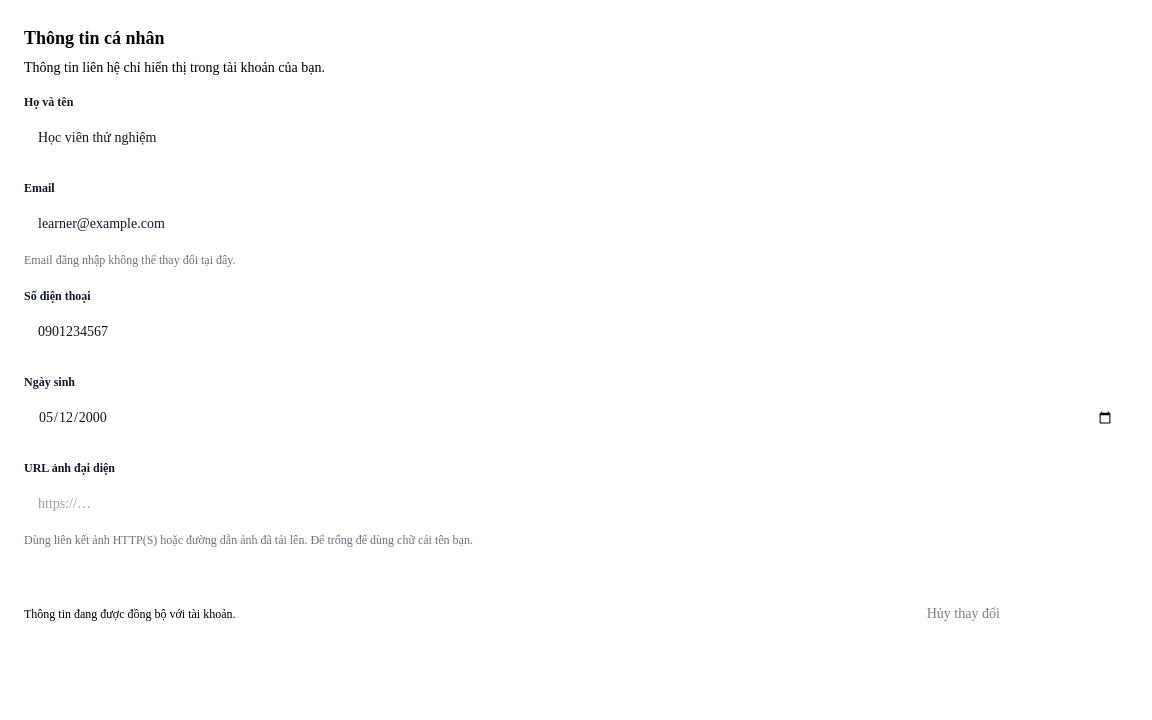
Test case: cancels unsaved edits
Replace the text in the field labelled "Họ và tên" with "Tên mới" at (576, 138), box [24, 116, 1128, 160]
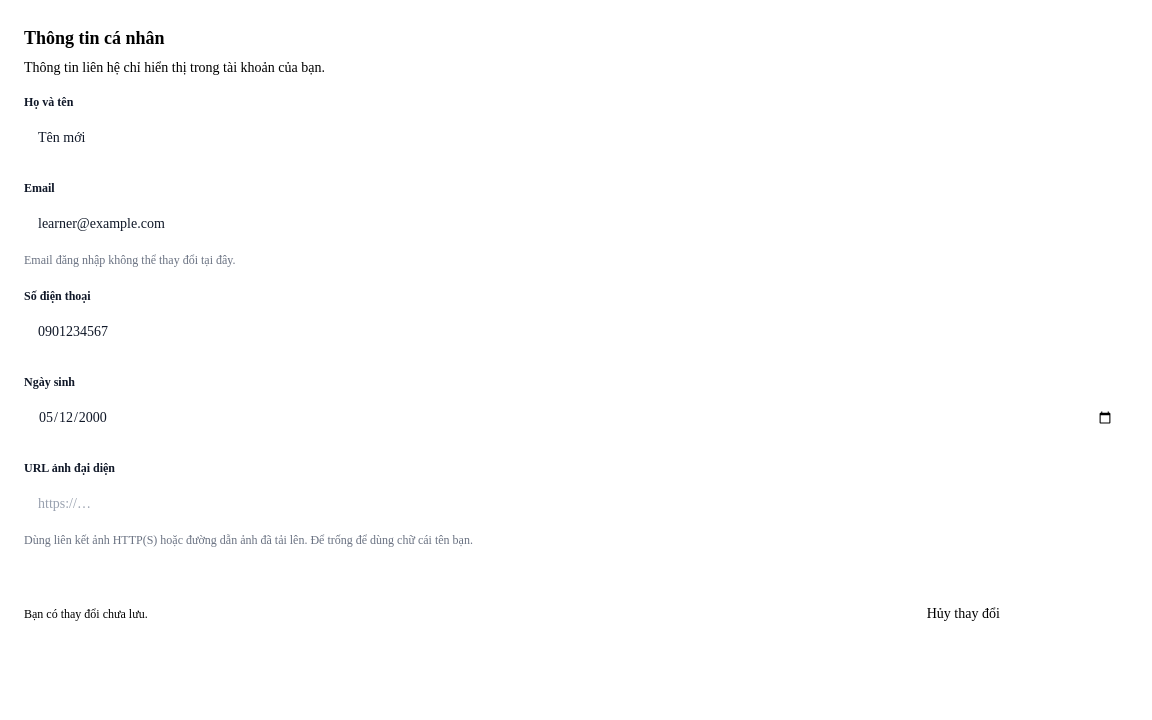
Click the button "Hủy thay đổi".
click(963, 614)  # box [911, 592, 1016, 636]
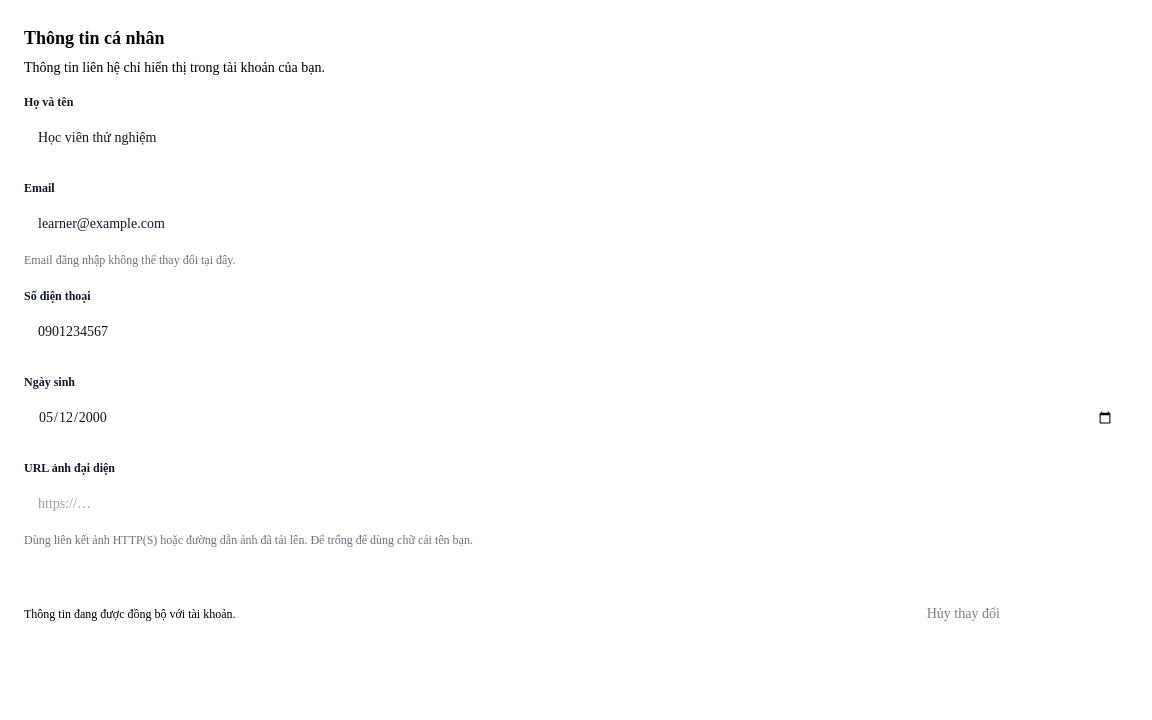
Expected: the field labelled "Họ và tên" holds "Học viên thử nghiệm", [24, 116, 1128, 160]
